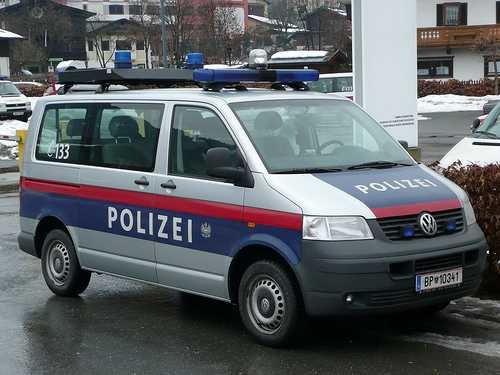Police Car: (32, 50, 480, 333)
